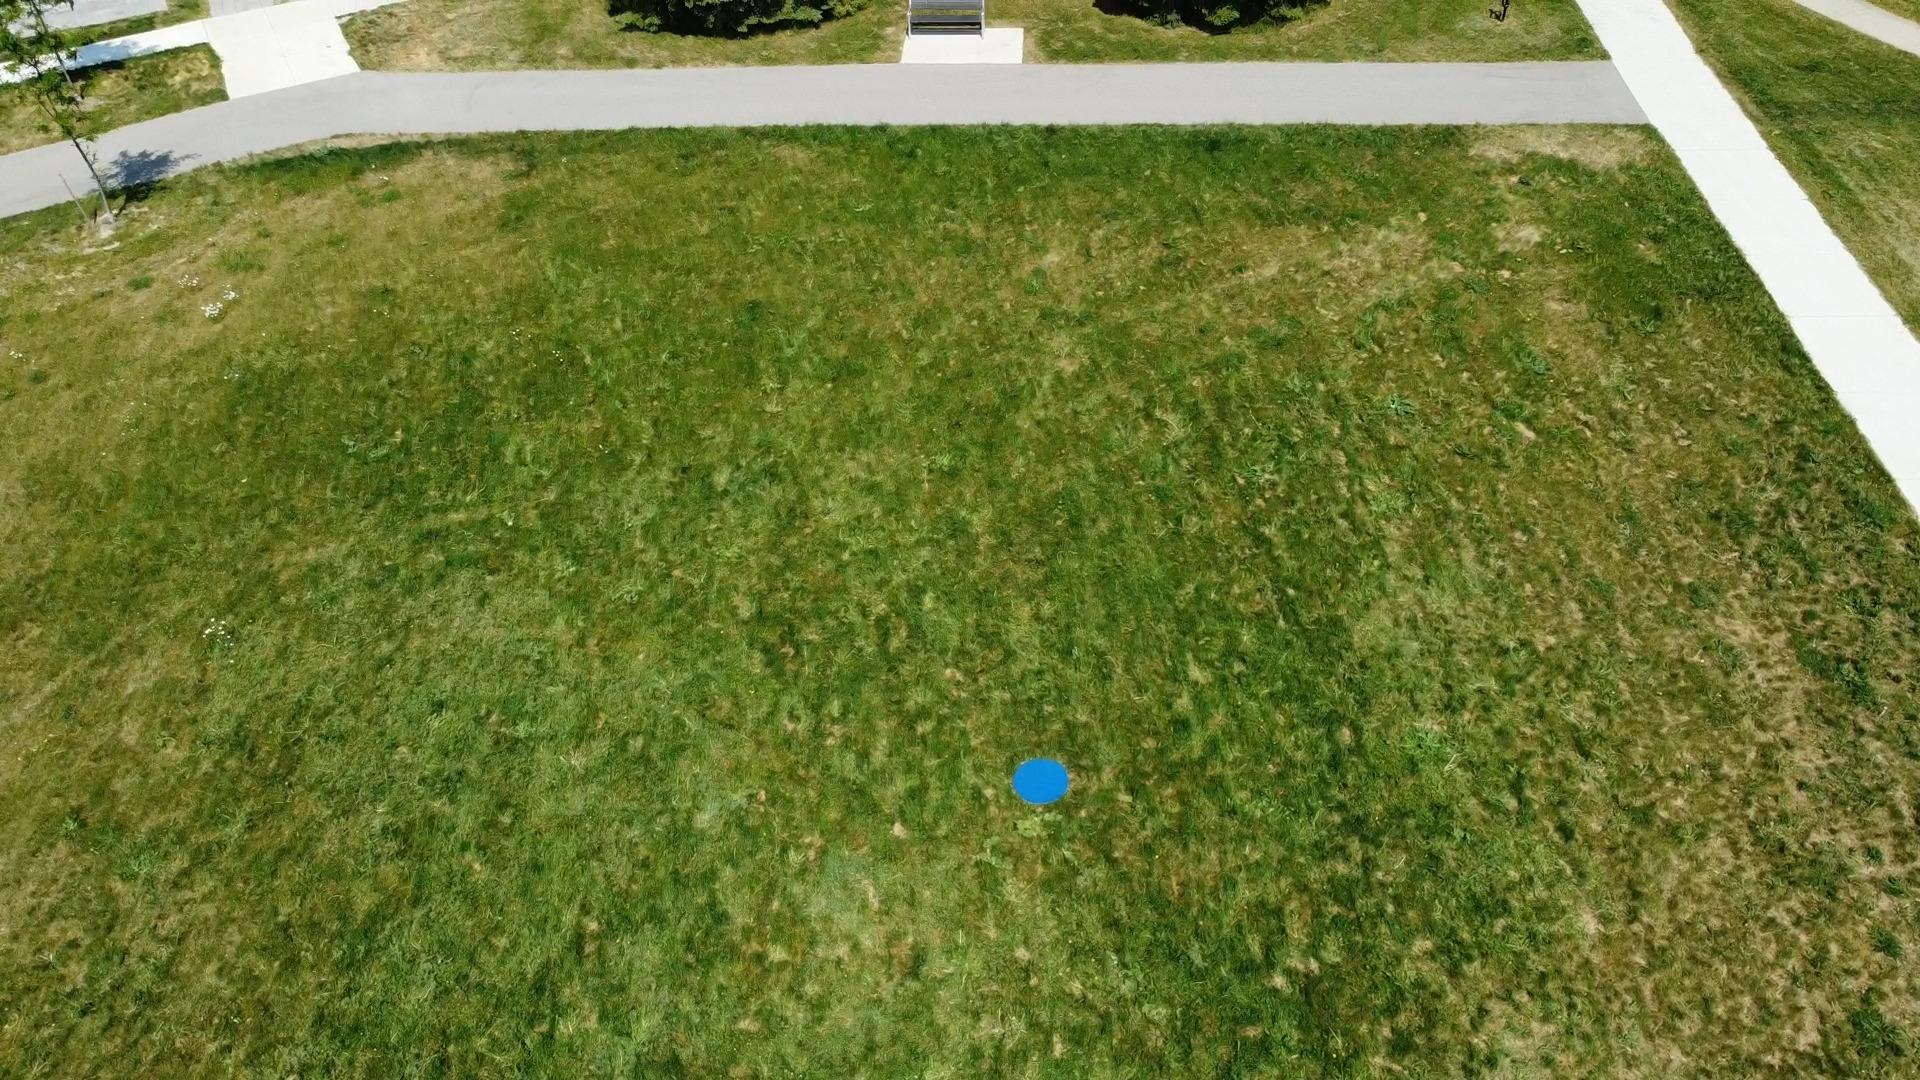Blue: (1010, 756, 1072, 806)
